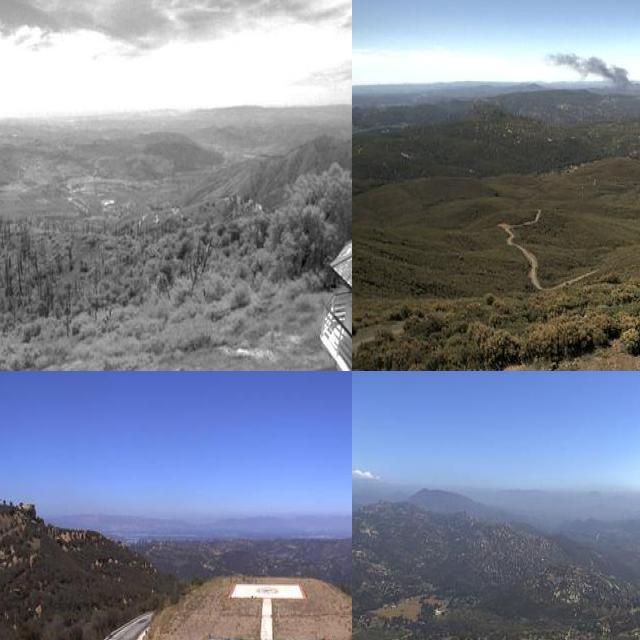smoke: (546, 44, 635, 93)
